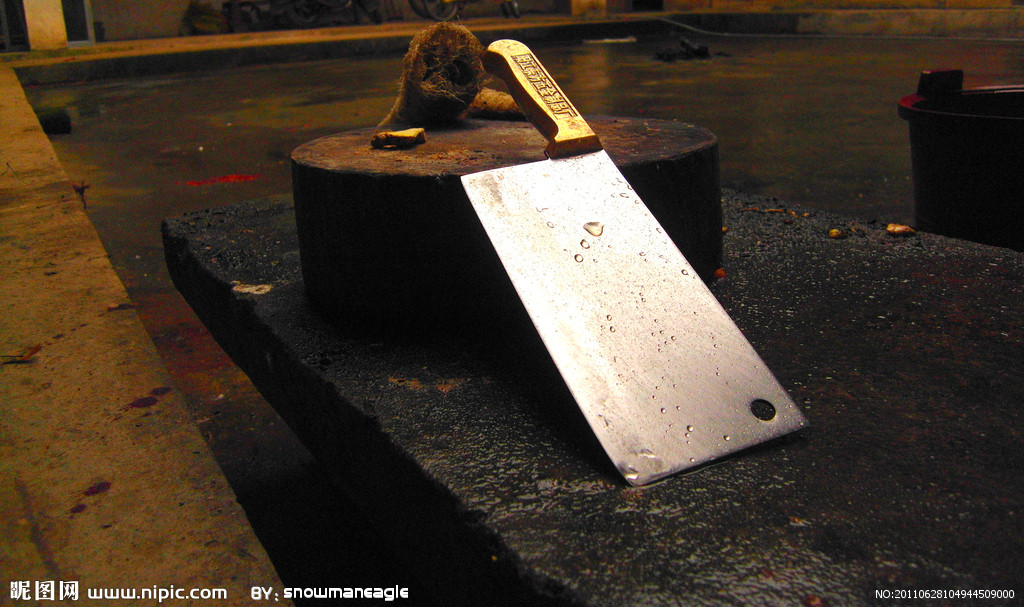knief: (483, 58, 808, 479)
